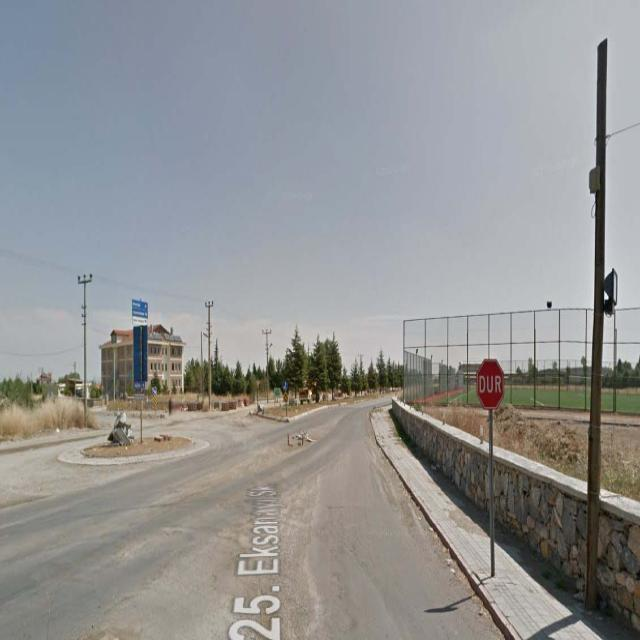dur: (477, 358, 505, 411)
